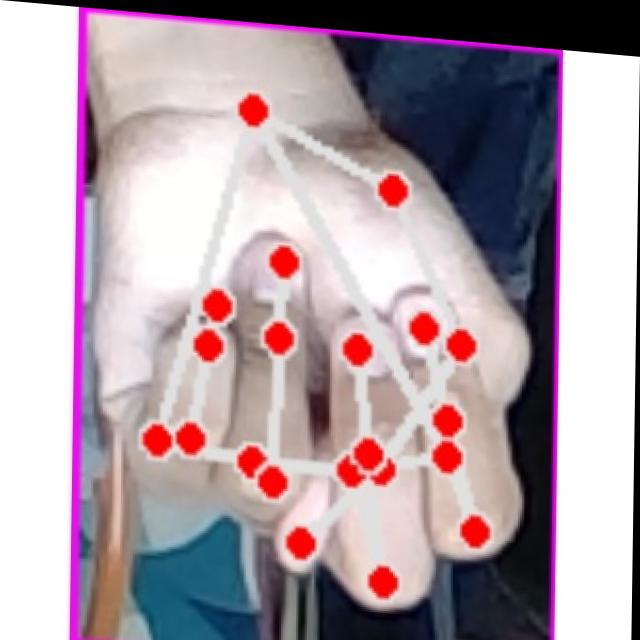N: (96, 54, 546, 632)
